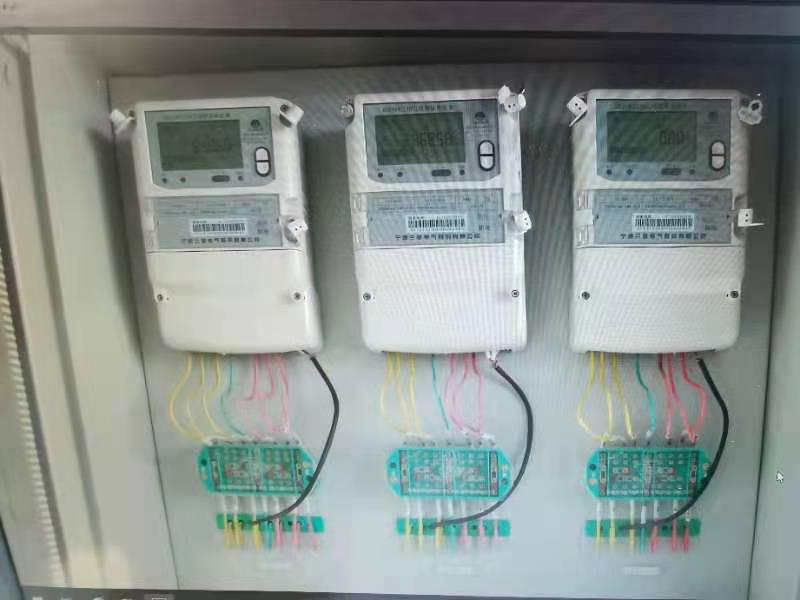digital: (345, 89, 524, 352), (570, 88, 745, 352), (130, 99, 310, 353)
